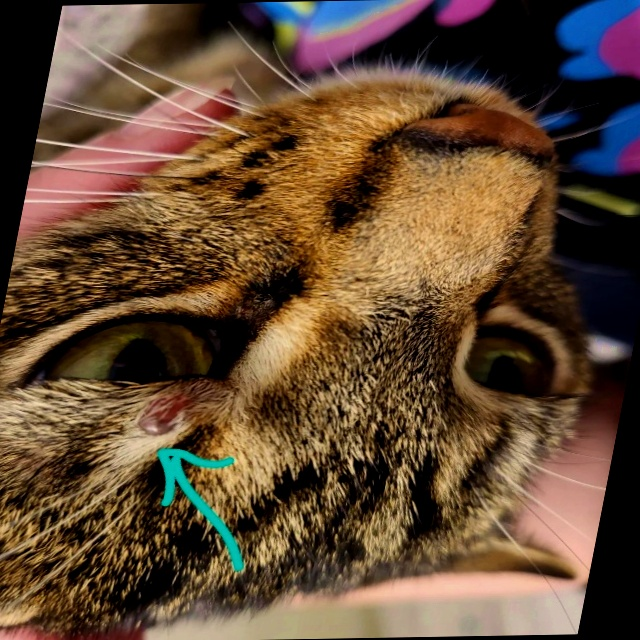lump_and_bump: (140, 394, 192, 433)
